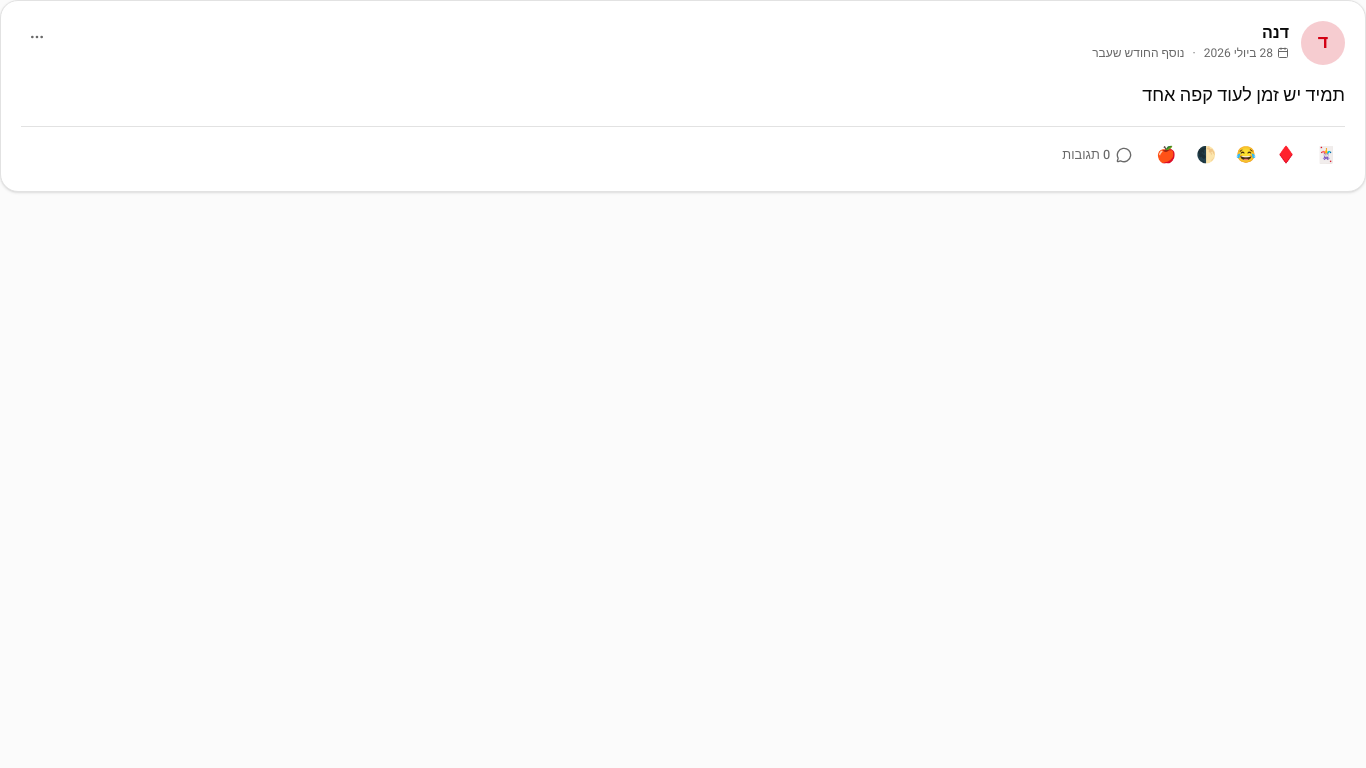
Test: QuoteCard › asks for confirmation before deleting
Click the button named "אפשרויות נוספות".
click(37, 37)  # box [21, 21, 53, 53]
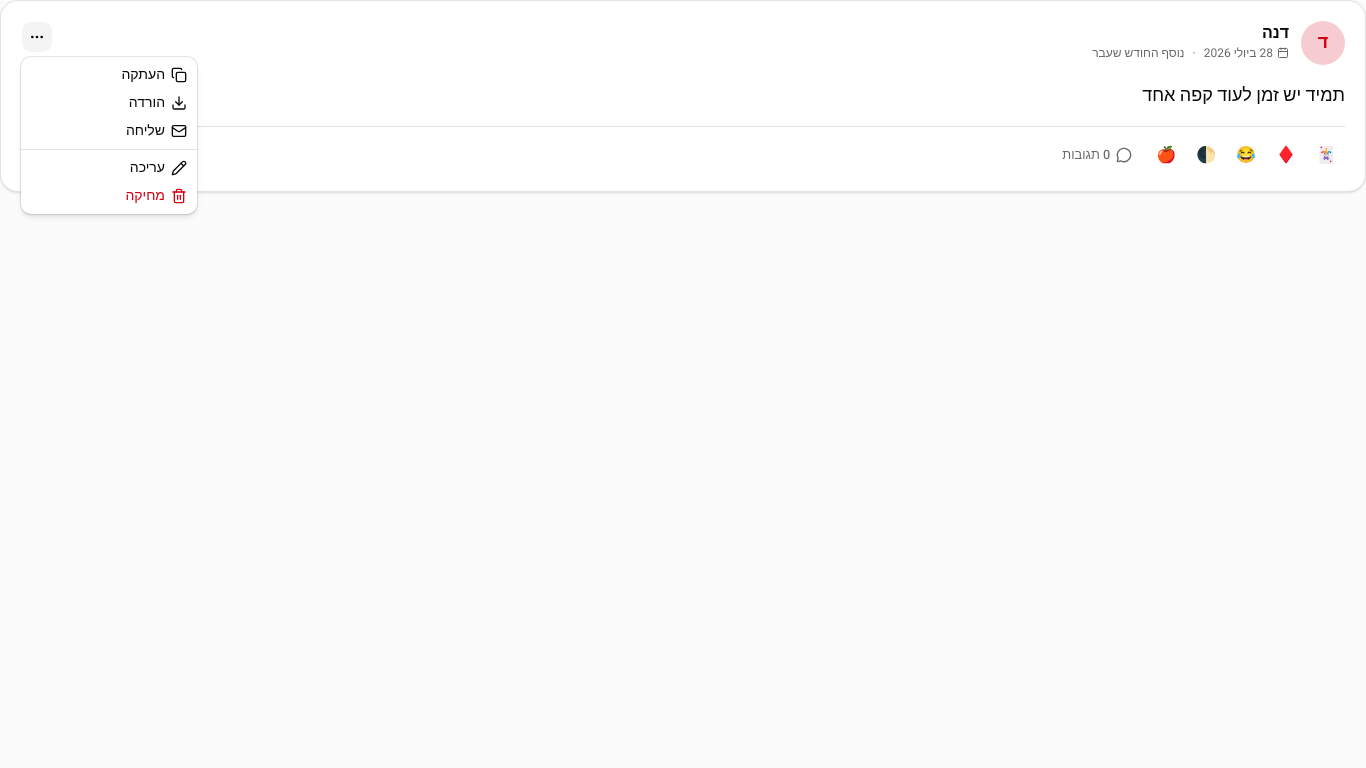
Click the menu item "מחיקה".
click(156, 196)  # box [125, 185, 187, 206]
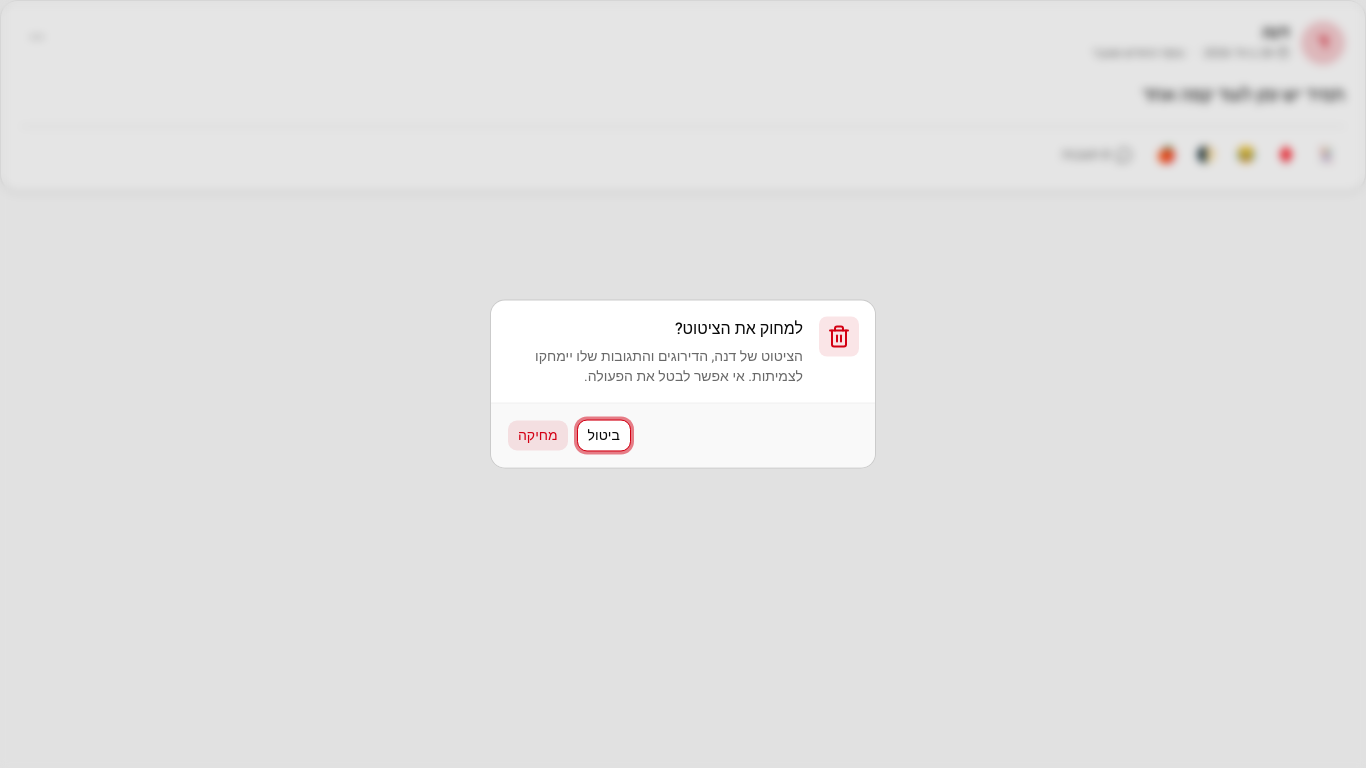
Check: the heading "למחוק את הציטוט?" is shown, box [675, 316, 803, 340]
Check: the text "דנה" is shown, box [714, 346, 736, 366]
